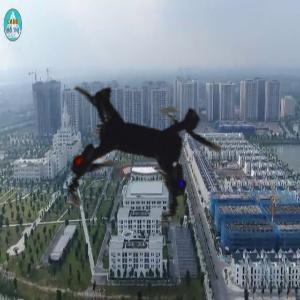drone: (2, 5, 289, 292)
